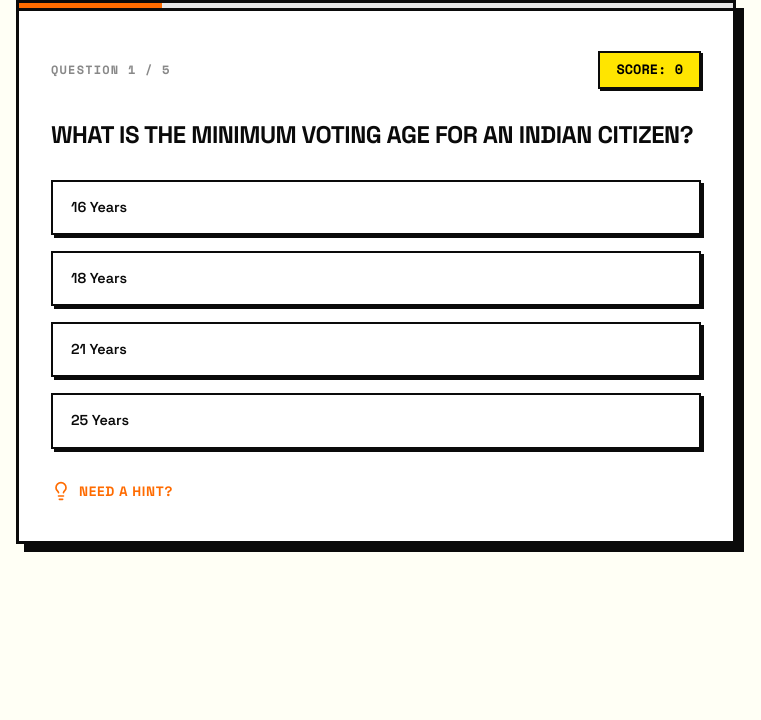
Scenario: Quiz Component — Interaction & State › shows explanation after selecting an option
Step 1. Click the button "18 Years" → [99, 278], box [51,251,701,306]
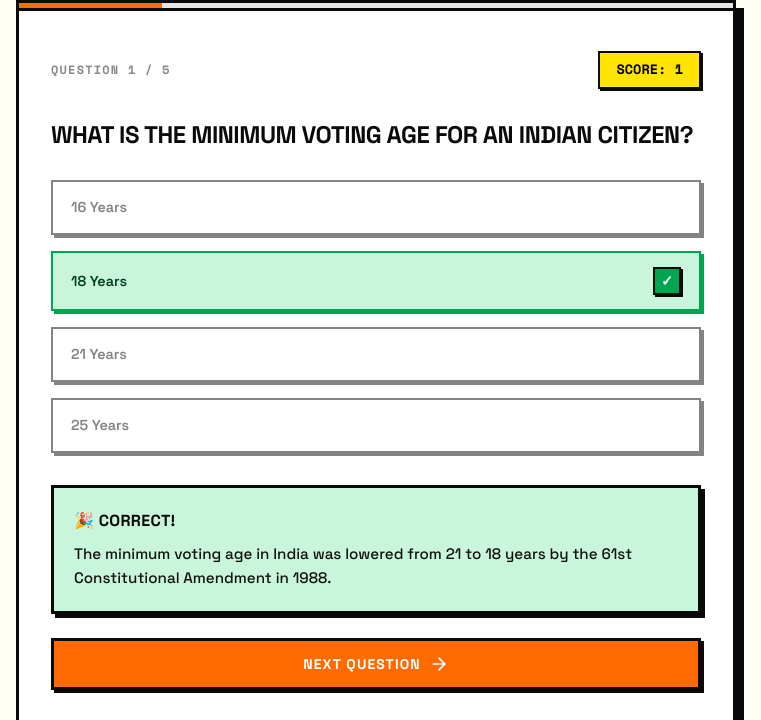
Expected: the text "61st Constitutional Amendment" is shown, [74,544,632,587]
